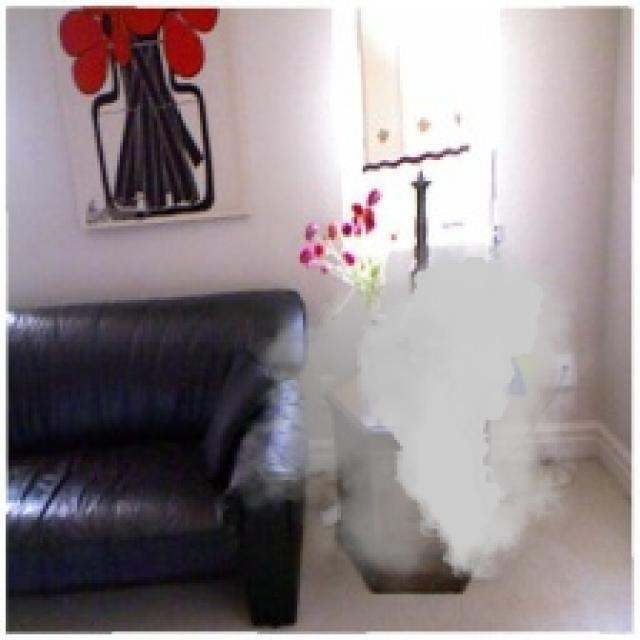Smoke: (217, 231, 609, 603)
